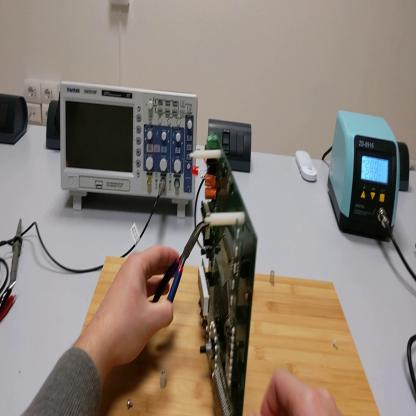hand: (98, 246, 179, 365), (260, 373, 340, 416)
low voltage board: (192, 131, 261, 415)
oscilloscope: (61, 80, 199, 221)
oscilloscope probe tip: (12, 218, 24, 287)
pliers: (152, 222, 208, 313)
socket: (2, 95, 29, 146), (47, 102, 61, 149), (400, 143, 410, 191)
welder station: (330, 106, 401, 241)
working area: (82, 257, 380, 415)
